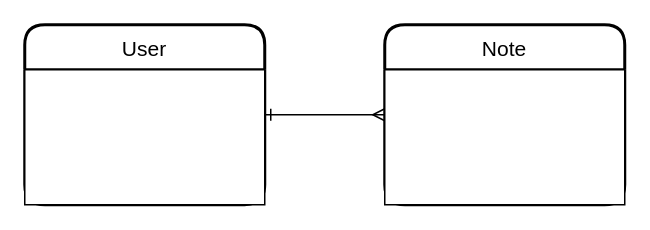
Image size: 650x230. Some labels were removed from this diagram. The box of each missing label's shape, as (x1, y1, x2, y2) in pixels:
+id (int) +user_id (int, FK) +name (string) +content (string): (383, 68, 625, 205)
+id (int) +username (string) +email (string) +password: (23, 68, 265, 205)
